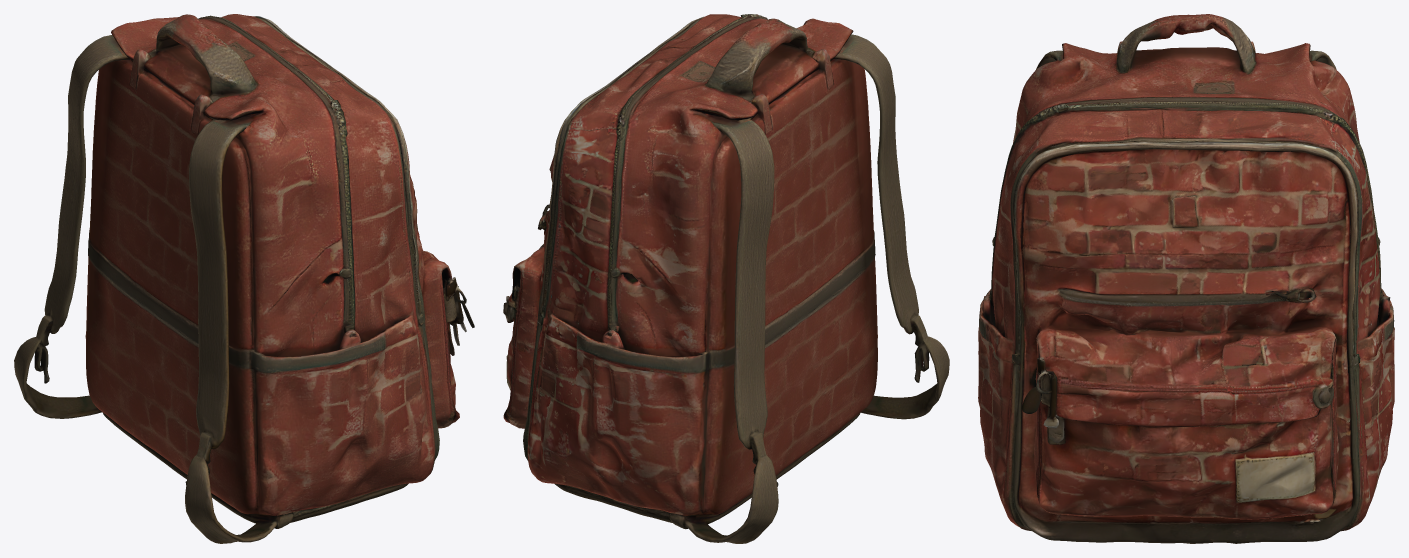
File: schoolbag.glb
3 renders of one model, left to right at view 1: azimuth 30°, elevation 25°; view 2: azimuth 150°, elevation 25°; view 3: azimuth 270°, elevation 25°, orthographic. The views are drawn at different scales.
Visible parts, largest first — view 1: tripo_node_5c7d14d7-cafc-473b-9bfd-9d6f79a5f25a; view 2: tripo_node_5c7d14d7-cafc-473b-9bfd-9d6f79a5f25a; view 3: tripo_node_5c7d14d7-cafc-473b-9bfd-9d6f79a5f25a.
Boxes of the visible parts, x1,y1,x2,y2 form: tripo_node_5c7d14d7-cafc-473b-9bfd-9d6f79a5f25a: [14, 14, 474, 543]; tripo_node_5c7d14d7-cafc-473b-9bfd-9d6f79a5f25a: [503, 14, 949, 543]; tripo_node_5c7d14d7-cafc-473b-9bfd-9d6f79a5f25a: [978, 14, 1394, 543].
Size of the model in its own units: 0.3262 by 0.45 by 0.3729.
1 material, 1 textured.
